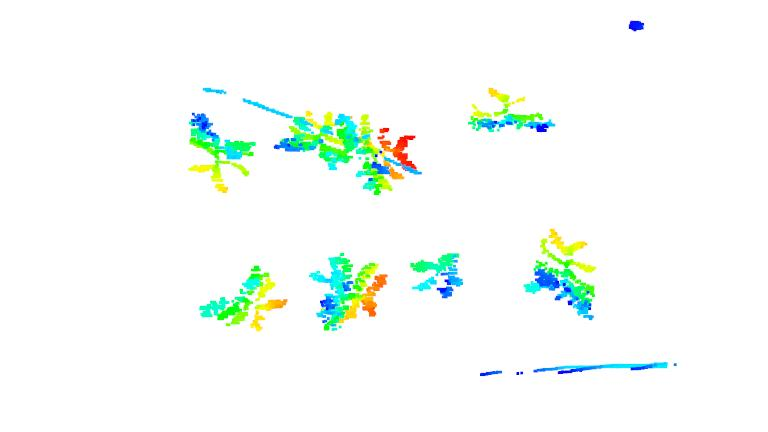chickpea: (520, 230, 598, 319), (197, 262, 290, 332), (312, 252, 388, 332), (185, 111, 255, 192), (357, 112, 420, 198), (274, 107, 359, 168), (468, 85, 558, 136), (408, 250, 466, 300)
